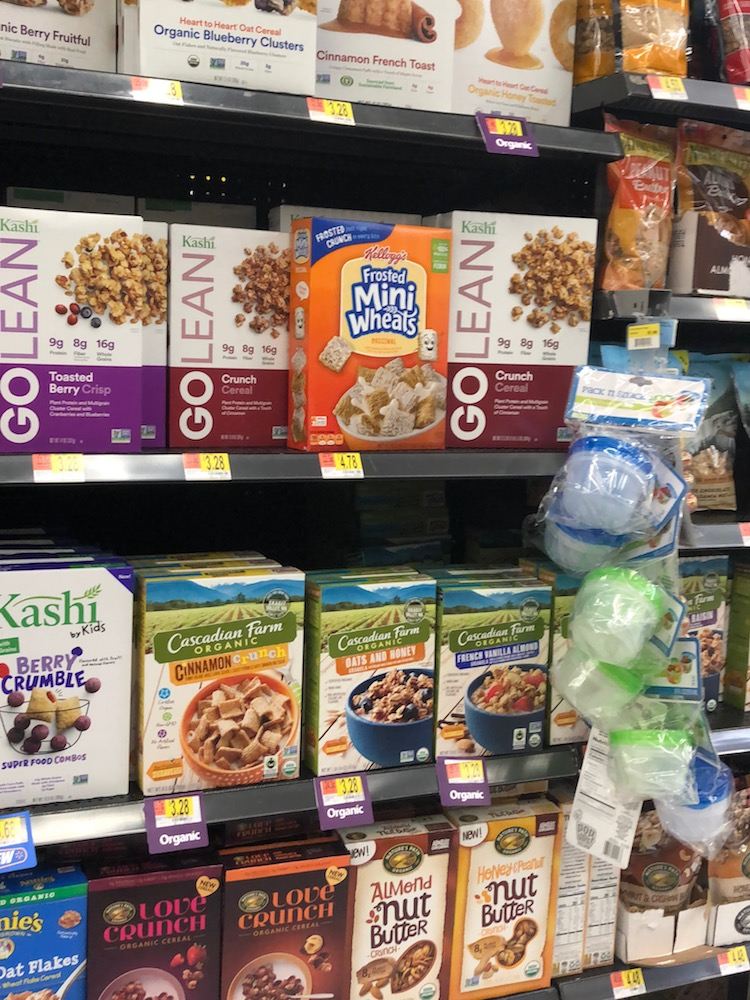Frosted Mini Original -9295869: (287, 222, 447, 453)
